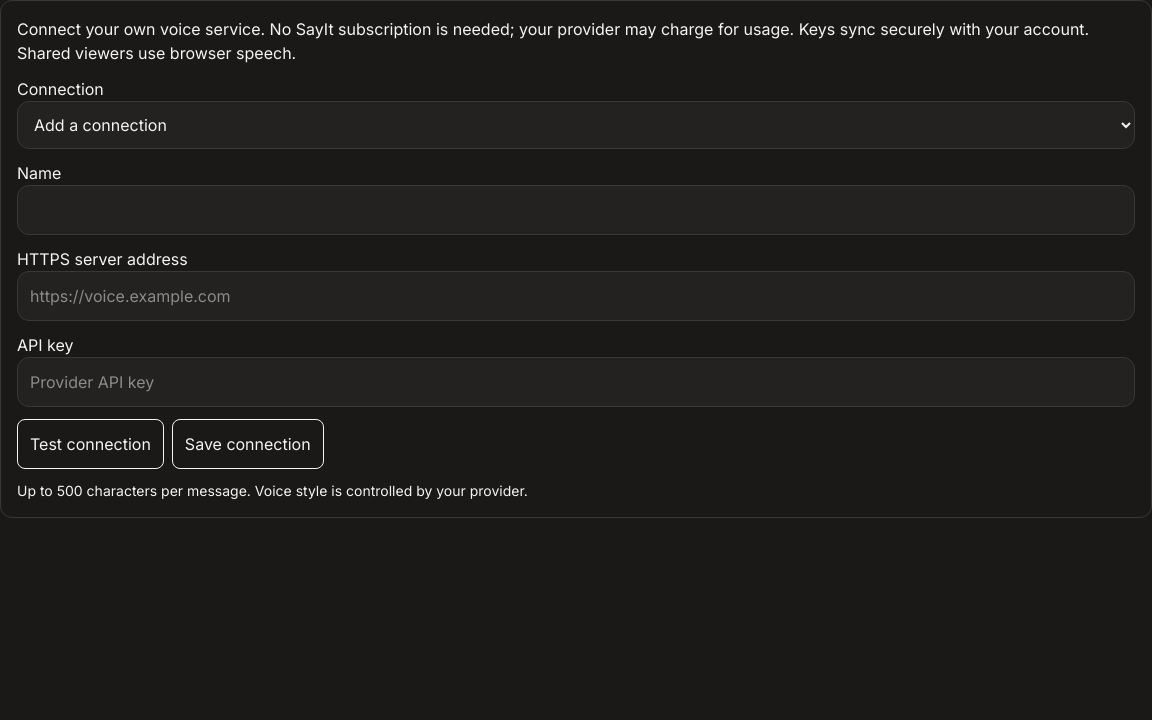
Scenario: prevents duplicate requests and preserves form on failure
The image size is (1152, 720).
In the field labelled "Name": (576, 210) [17,185,1135,235], type "Keep this"
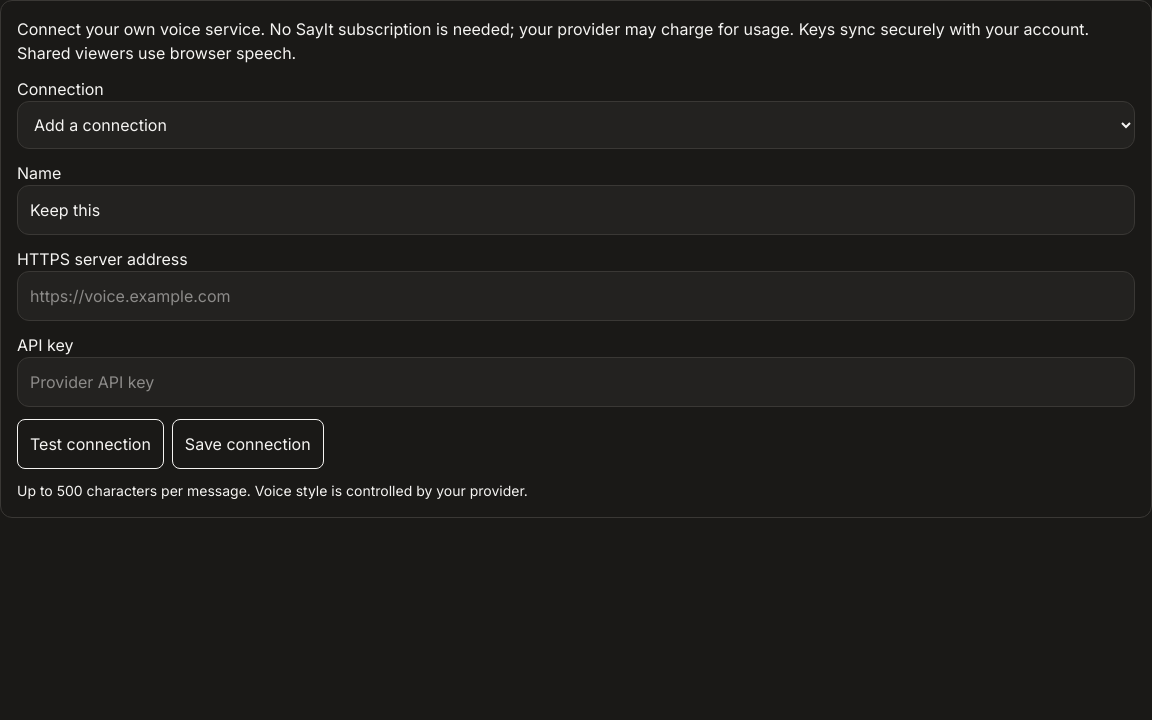
Click the button "Test connection": (90, 444) [17,419,164,469]
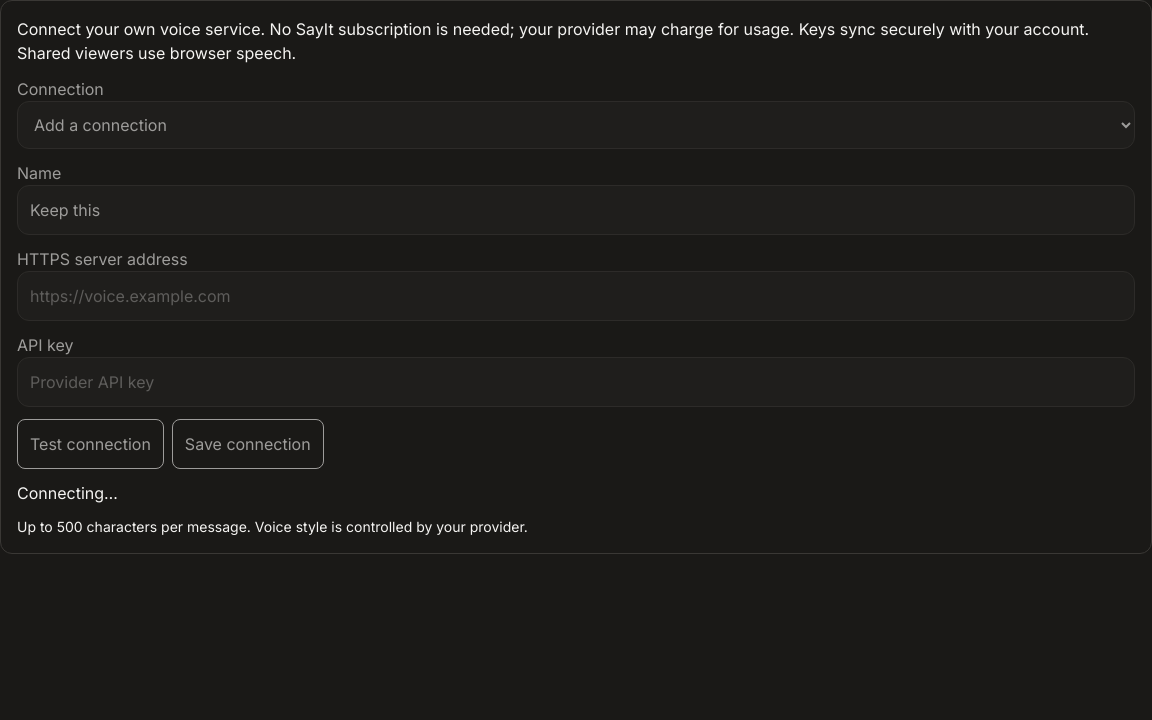
Click the button "Test connection": (90, 444) [17,419,164,469]
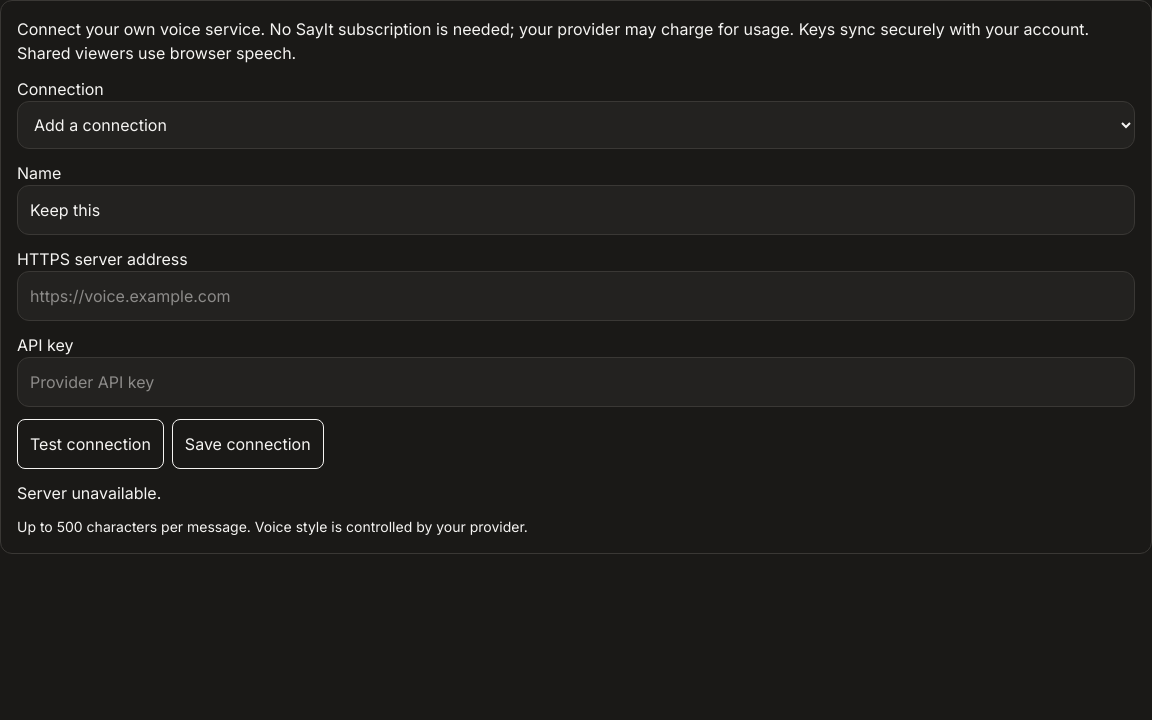
Result: the text "Server unavailable." is shown at [17,483,161,503]
